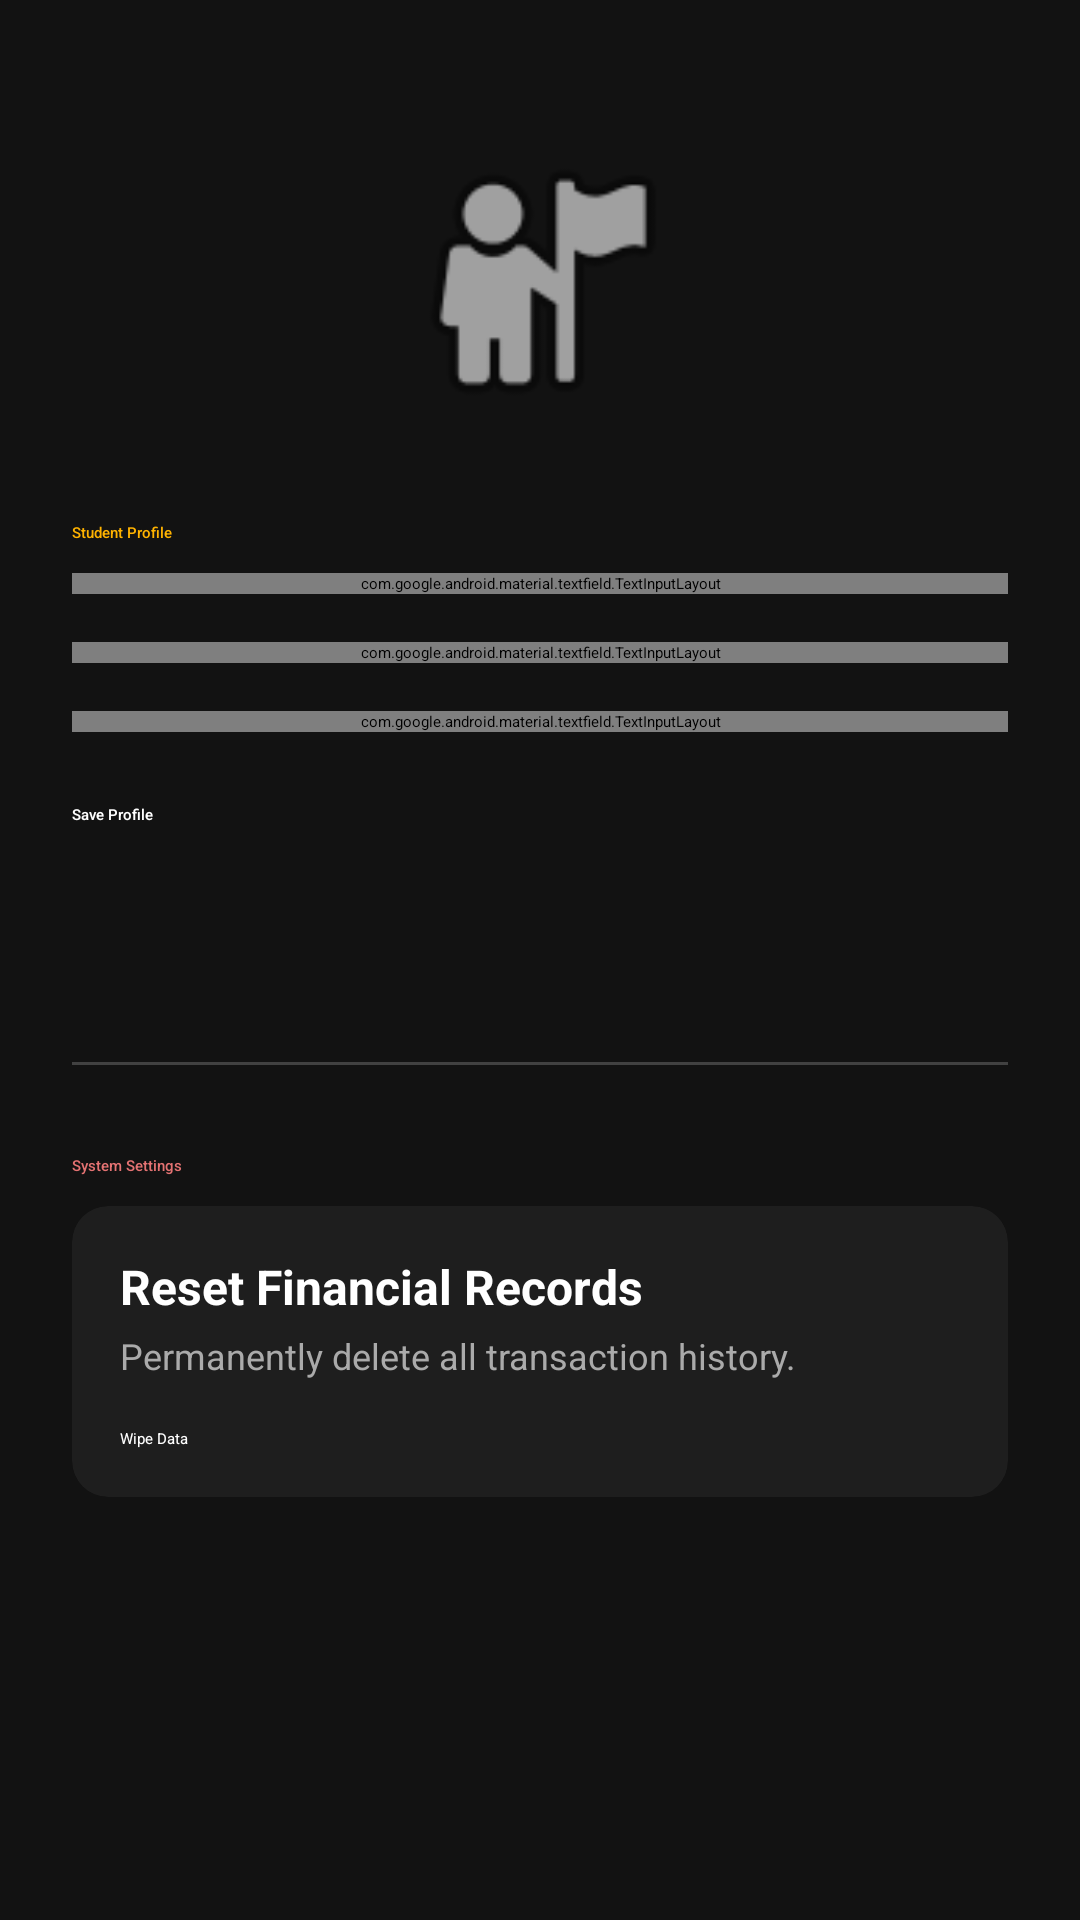

Where to tap for icons on this 1080*1920 app screen, as (x=x, y=y):
myplaces: (x=543, y=282)
